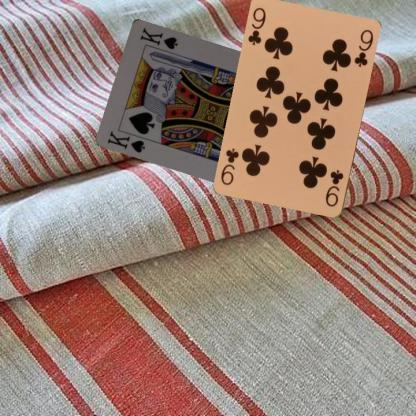9c: (245, 5, 268, 47), (323, 167, 345, 209)
Ks: (105, 128, 147, 154)
